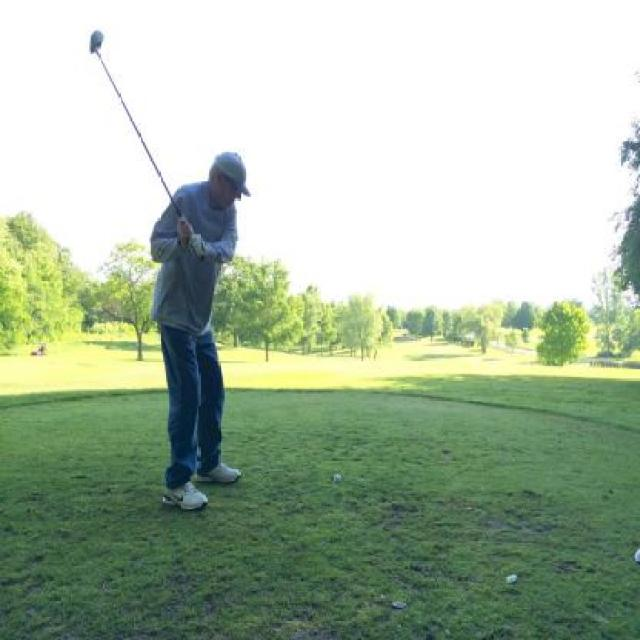club head: (88, 28, 105, 58)
